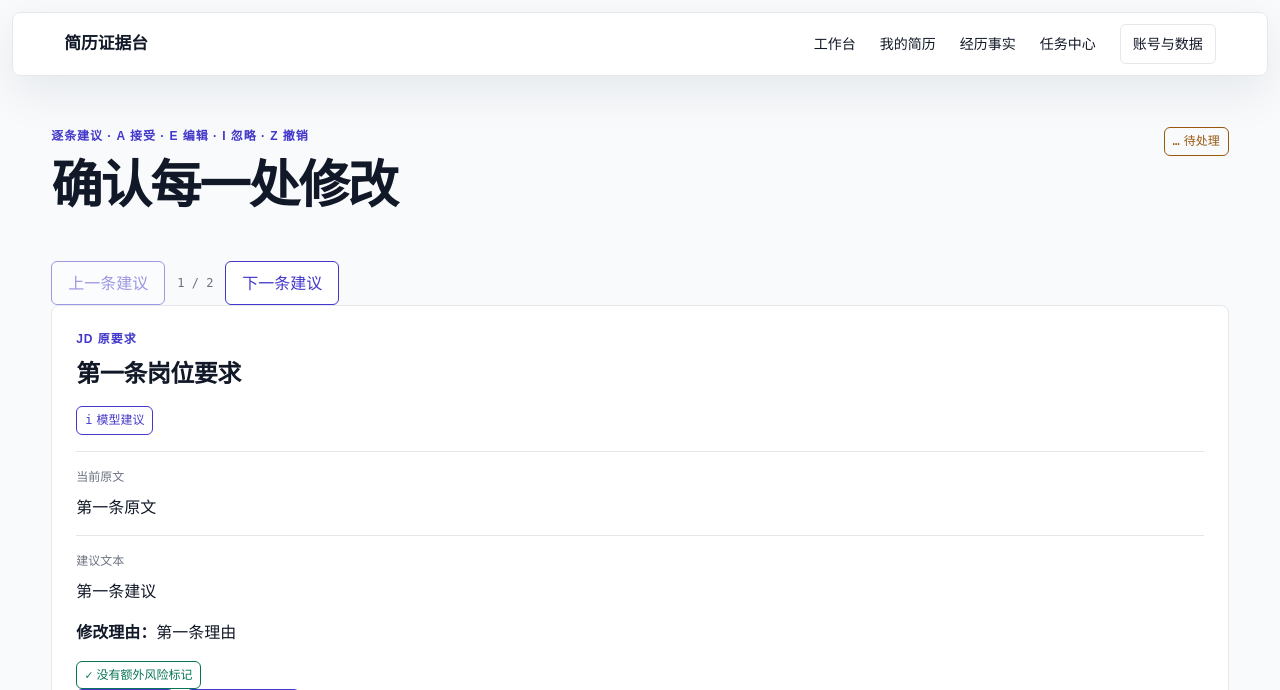
V2 real workflow pages › navigates a suggestion batch and limits blocked items to evidence or ignore
Expected: the heading "第一条岗位要求" is shown, [76,360,241,387]
Click the button "下一条建议" at (282, 283), box [225,261,339,305]
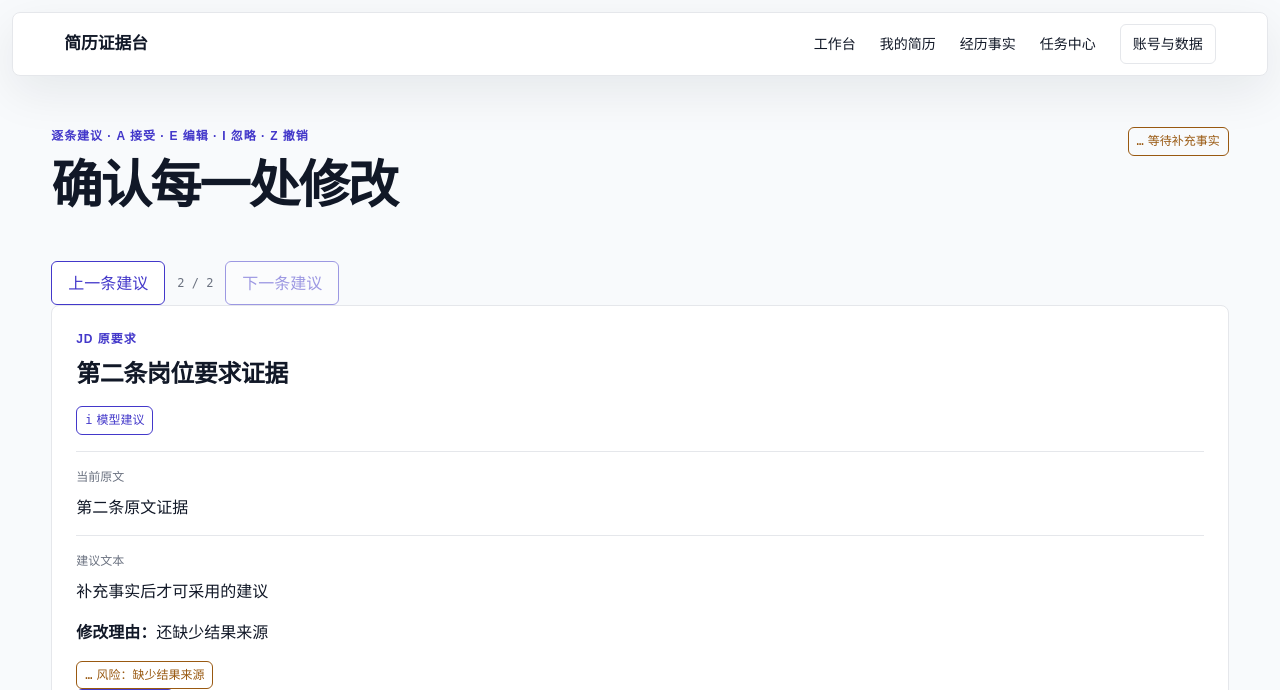
Expected: the text "第二条原文证据" is shown, [76,497,188,517]
Expected: the heading "第二条岗位要求证据" is shown, [76,360,288,387]
Expected: the text "补充事实后才可采用的建议" is shown, [76,581,268,601]
